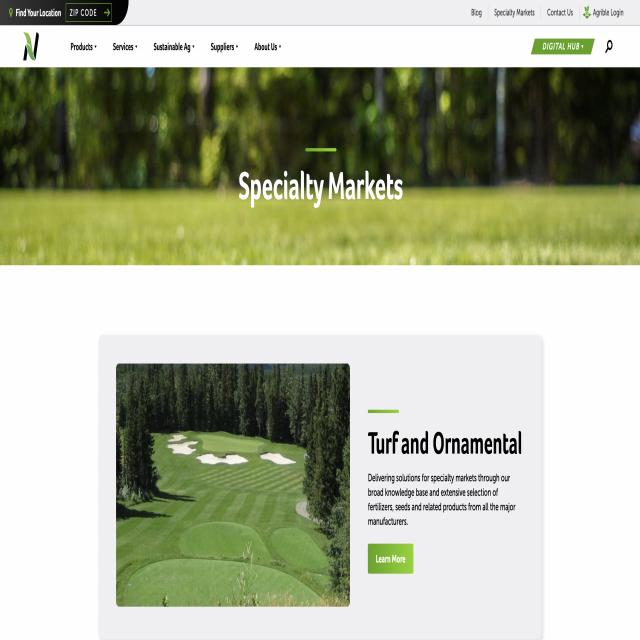Logo: (13, 23, 49, 64)
Navigation: (57, 37, 321, 58)
